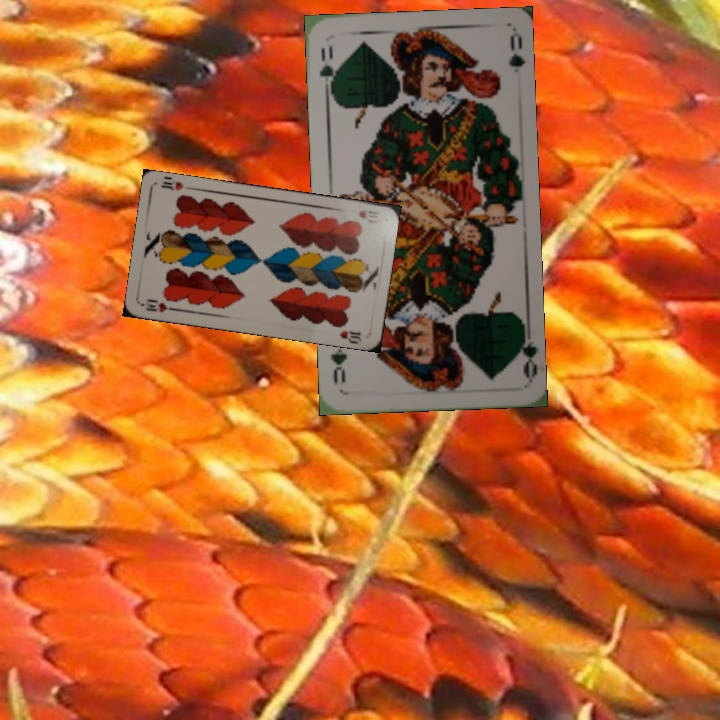GO: (510, 322, 538, 381), (315, 41, 340, 98)
H10: (139, 295, 179, 315), (355, 206, 382, 221)
